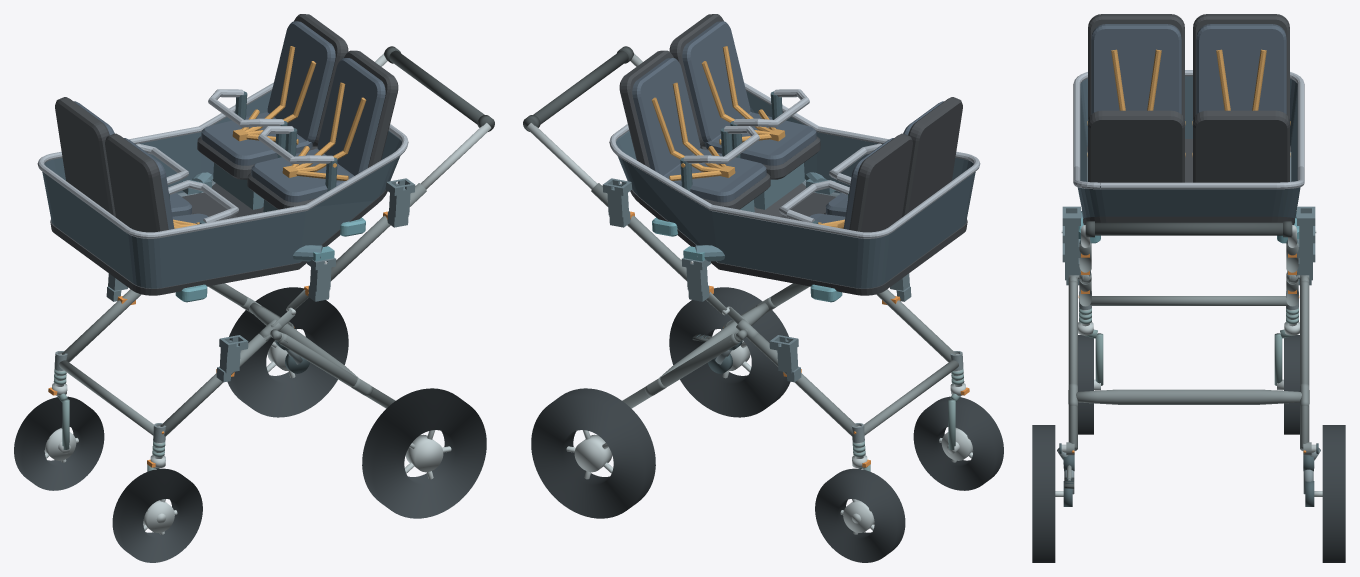
File: S12_w650_state1_wheel_L.glb
The picture shows the model from 3 angles, left to right: view 1: azimuth 30°, elevation 25°; view 2: azimuth 150°, elevation 25°; view 3: azimuth 270°, elevation 25°; orthographic projection. The views are drawn at different scales.
Visible parts, largest first — view 1: S12_Cabin, RL_tire.008, RR_tire.008, FL_tire.008, FR_tire.008, round_handle.008, V46_rear_leg_-1.009, main_lower_-1.009, front_fixed_round_tube.008, main_lower_1.009, main_upper_-1.009, Universal_Cabin_Receiver_H_-1 (+8 smaller); view 2: S12_Cabin, RR_tire.008, RL_tire.008, FR_tire.008, FL_tire.008, round_handle.008, V46_rear_leg_1.009, main_lower_1.009, front_fixed_round_tube.008, main_lower_-1.009, main_upper_1.009, Universal_Cabin_Receiver_H_1 (+8 smaller); view 3: S12_Cabin, V46_rearbar.009, RL_tire.008, RR_tire.008, round_handle.008, front_fixed_round_tube.008, V46_rear_leg_1.009, V46_rear_leg_-1.009, FL_tire.008, FR_tire.008, Universal_Cabin_Receiver_H_1, Universal_Cabin_Receiver_H_-1 (+2 smaller).
Part boxes in pixels (left/top/right/bottom): S12_Cabin: left=37, top=14, right=408, bottom=302; RL_tire.008: left=362, top=388, right=486, bottom=518; RR_tire.008: left=227, top=287, right=348, bottom=417; FL_tire.008: left=112, top=468, right=202, bottom=562; FR_tire.008: left=14, top=396, right=104, bottom=490; round_handle.008: left=389, top=50, right=493, bottom=130; V46_rear_leg_-1.009: left=278, top=333, right=395, bottom=408; main_lower_-1.009: left=160, top=333, right=270, bottom=436; front_fixed_round_tube.008: left=59, top=360, right=153, bottom=435; main_lower_1.009: left=62, top=289, right=141, bottom=362; main_upper_-1.009: left=308, top=183, right=426, bottom=286; Universal_Cabin_Receiver_H_-1: left=386, top=178, right=415, bottom=227; S12_Cabin: left=609, top=14, right=980, bottom=302; RR_tire.008: left=531, top=388, right=655, bottom=518; RL_tire.008: left=669, top=287, right=790, bottom=417; FR_tire.008: left=815, top=468, right=905, bottom=562; FL_tire.008: left=913, top=396, right=1003, bottom=490; round_handle.008: left=524, top=50, right=628, bottom=130; V46_rear_leg_1.009: left=622, top=333, right=739, bottom=408; main_lower_1.009: left=747, top=333, right=857, bottom=436; front_fixed_round_tube.008: left=864, top=360, right=958, bottom=435; main_lower_-1.009: left=876, top=289, right=955, bottom=362; main_upper_1.009: left=591, top=183, right=709, bottom=286; Universal_Cabin_Receiver_H_1: left=602, top=178, right=631, bottom=227; S12_Cabin: left=1073, top=14, right=1304, bottom=243; V46_rearbar.009: left=1076, top=389, right=1301, bottom=404; RL_tire.008: left=1032, top=425, right=1055, bottom=562; RR_tire.008: left=1322, top=425, right=1345, bottom=562; round_handle.008: left=1085, top=222, right=1292, bottom=235; front_fixed_round_tube.008: left=1090, top=296, right=1287, bottom=305; V46_rear_leg_1.009: left=1300, top=280, right=1309, bottom=450; V46_rear_leg_-1.009: left=1068, top=280, right=1077, bottom=450; FL_tire.008: left=1078, top=335, right=1093, bottom=434; FR_tire.008: left=1284, top=335, right=1299, bottom=434; Universal_Cabin_Receiver_H_1: left=1297, top=206, right=1315, bottom=257; Universal_Cabin_Receiver_H_-1: left=1062, top=206, right=1080, bottom=257.
Size of the model in its own units: 1.2 by 1.27 by 0.8171.
